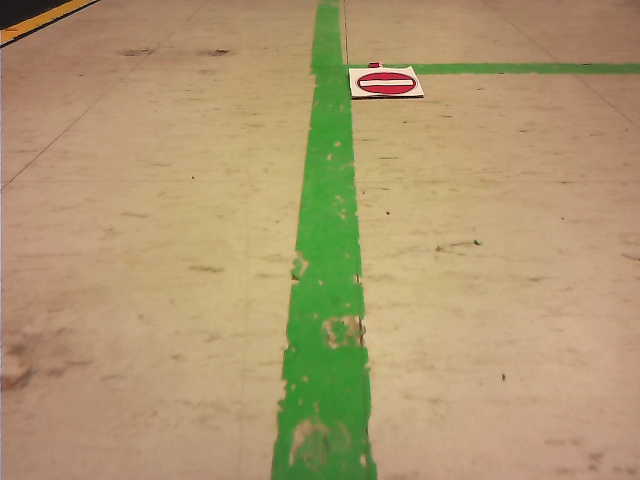NO ENTRY: (357, 72, 416, 94)
